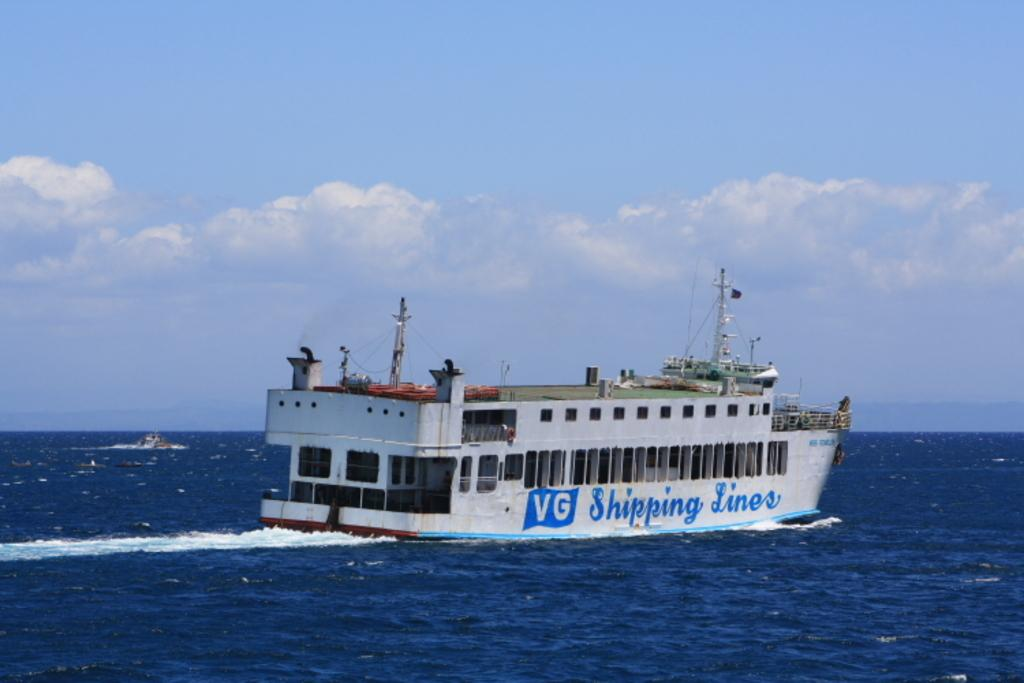PassengerShip: (265, 273, 857, 563)
